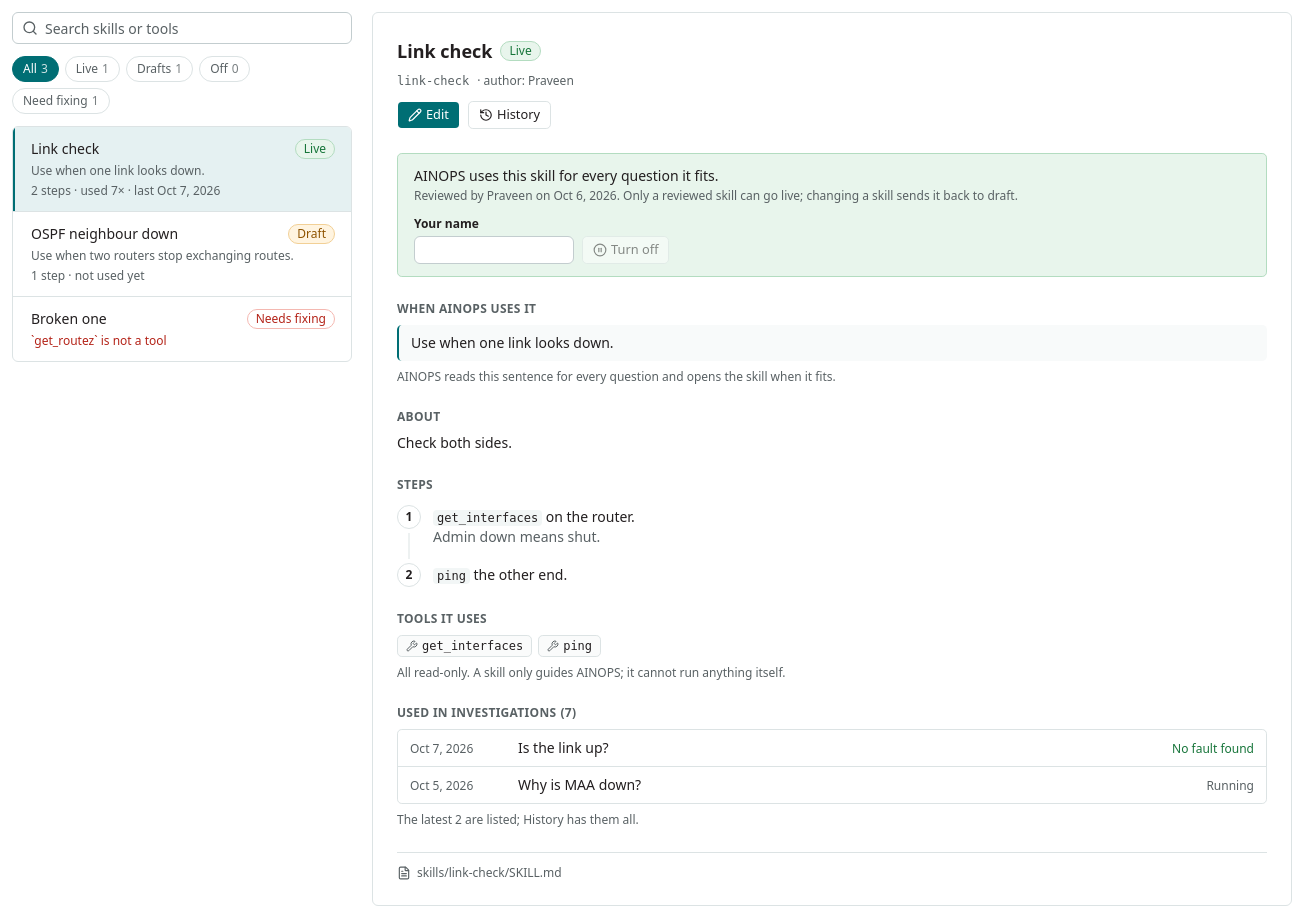
Test case: Skills page › filters by status and searches names, sentences and tools
Step 1. Click the button "Drafts1" → (160, 69), box [126, 56, 193, 82]
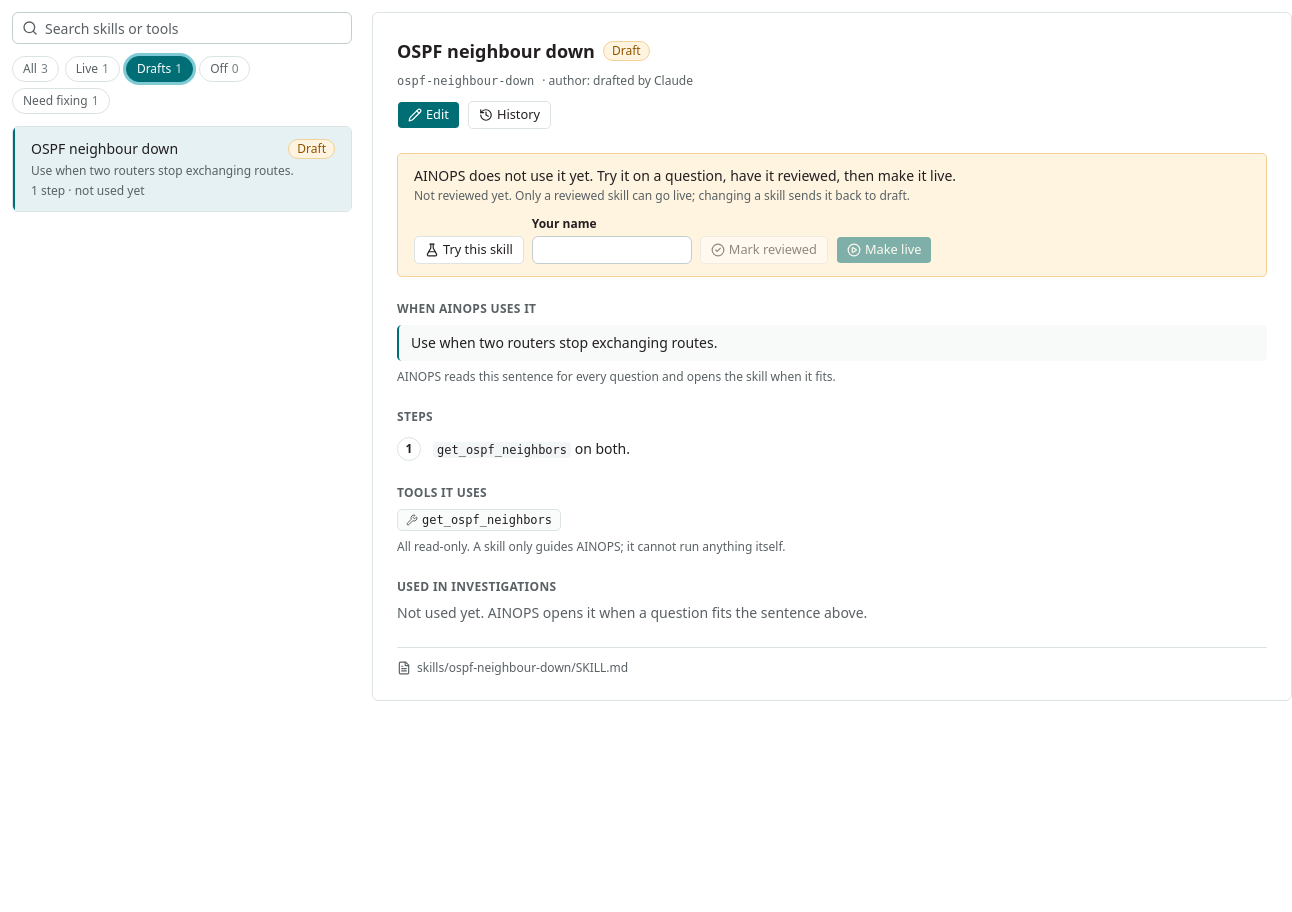
Step 2. Click the button "Need fixing1" → (61, 101), box [12, 88, 110, 114]
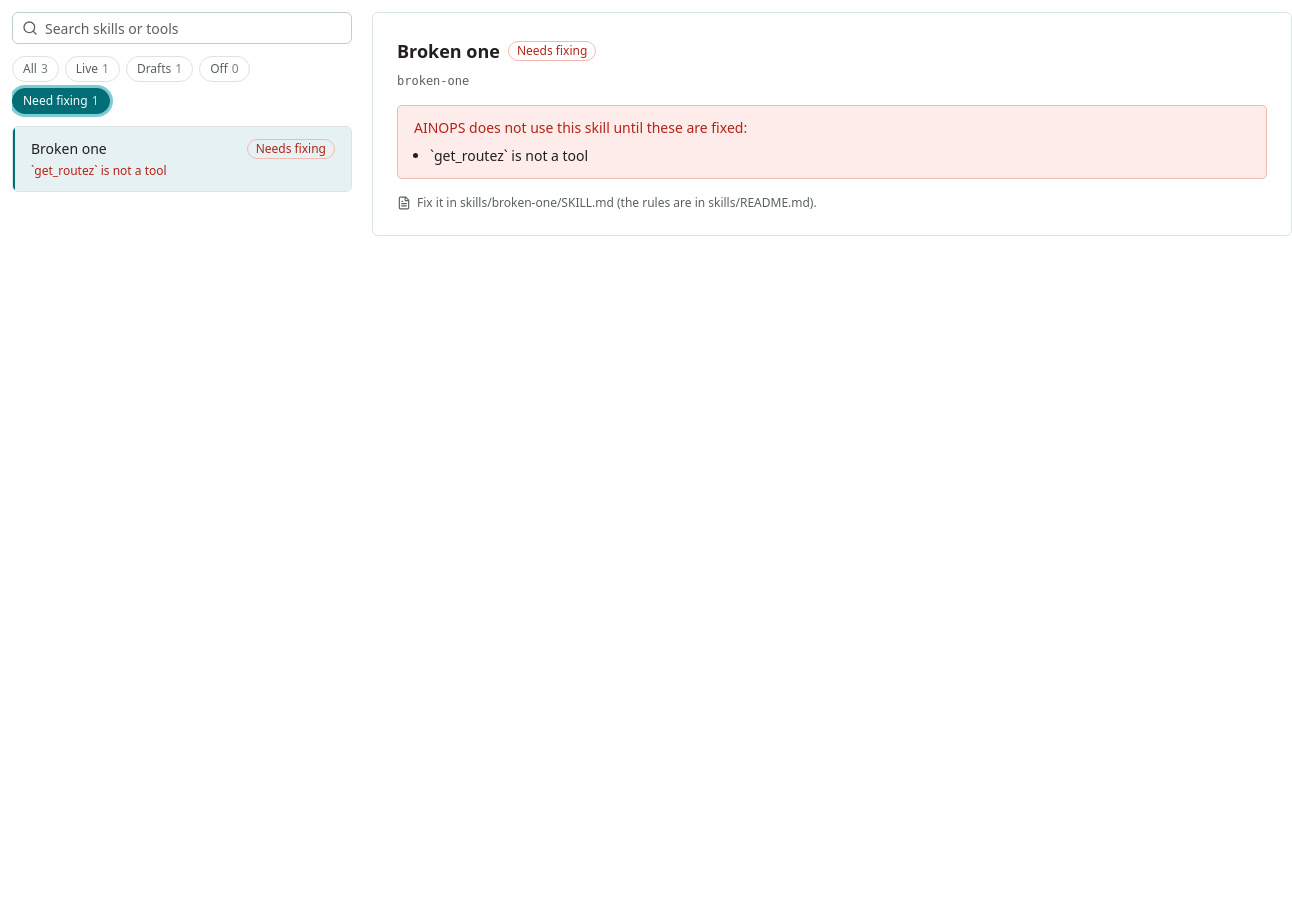
Step 3. Click the button "All3" → (35, 69), box [12, 56, 59, 82]
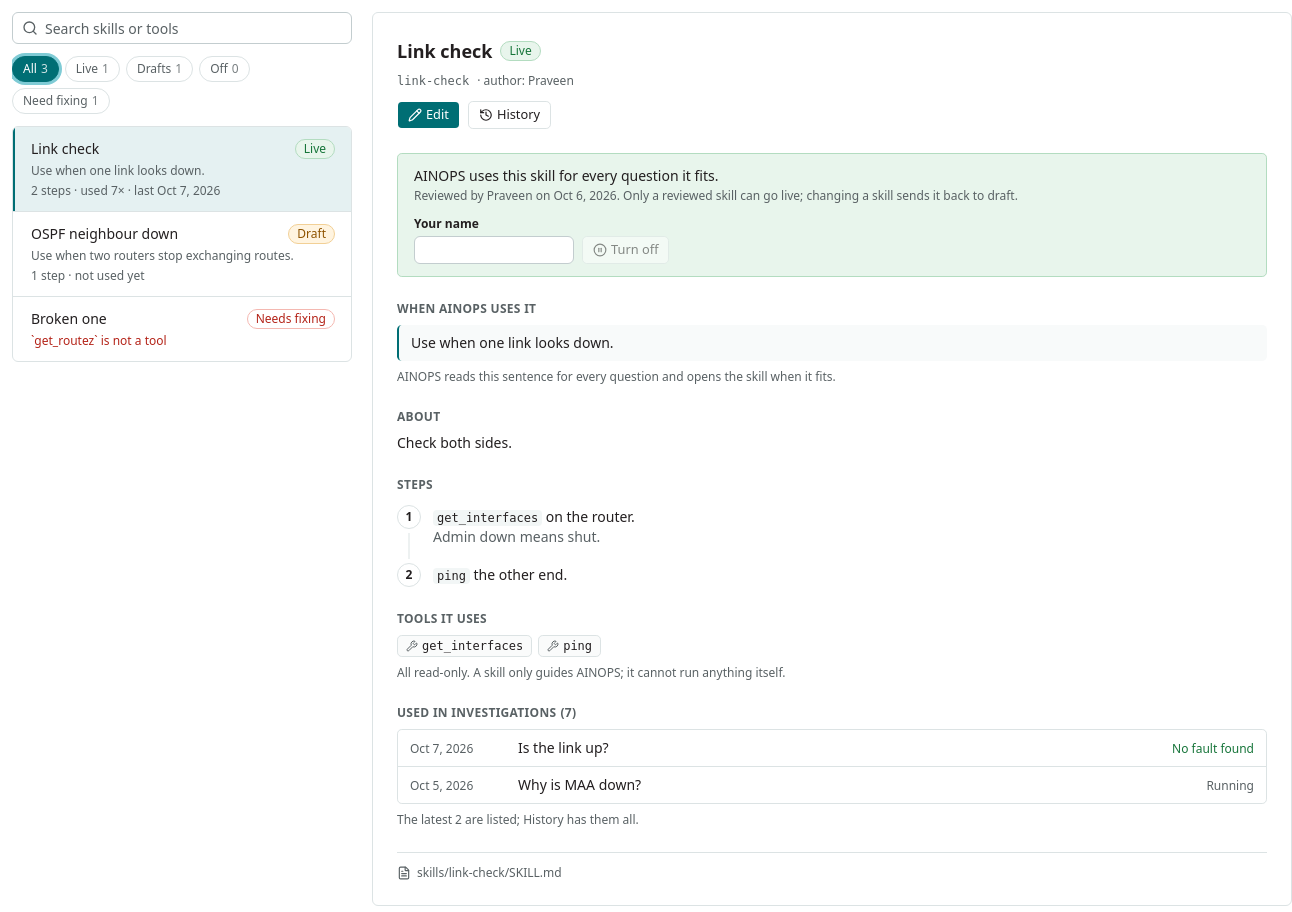
Step 4. Type "ping" into the search field labelled "Search skills" → (182, 28), box [12, 12, 352, 44]
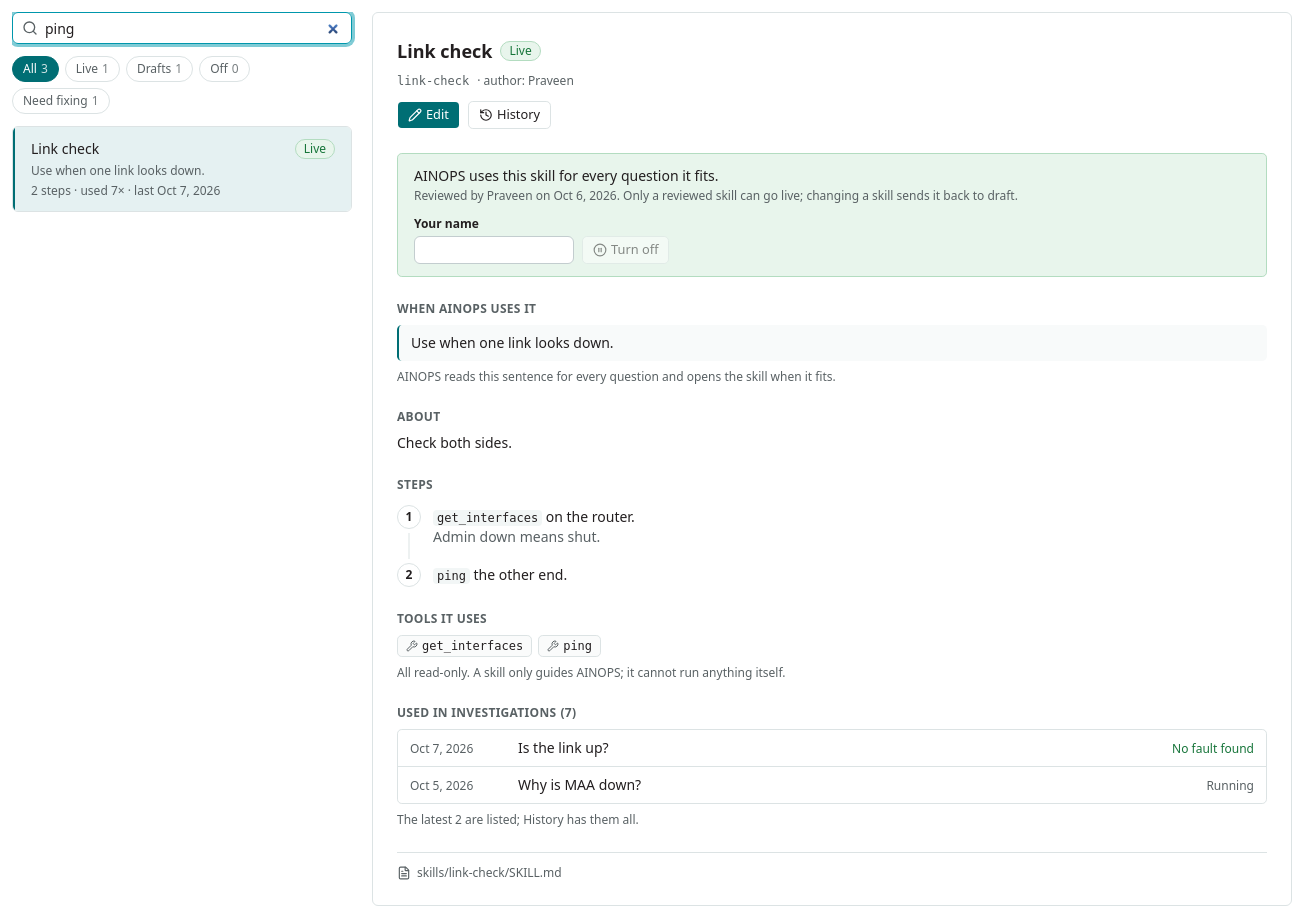
Step 5. Replace the text in the search field named "Search skills" with "zzz" → (182, 28), box [12, 12, 352, 44]
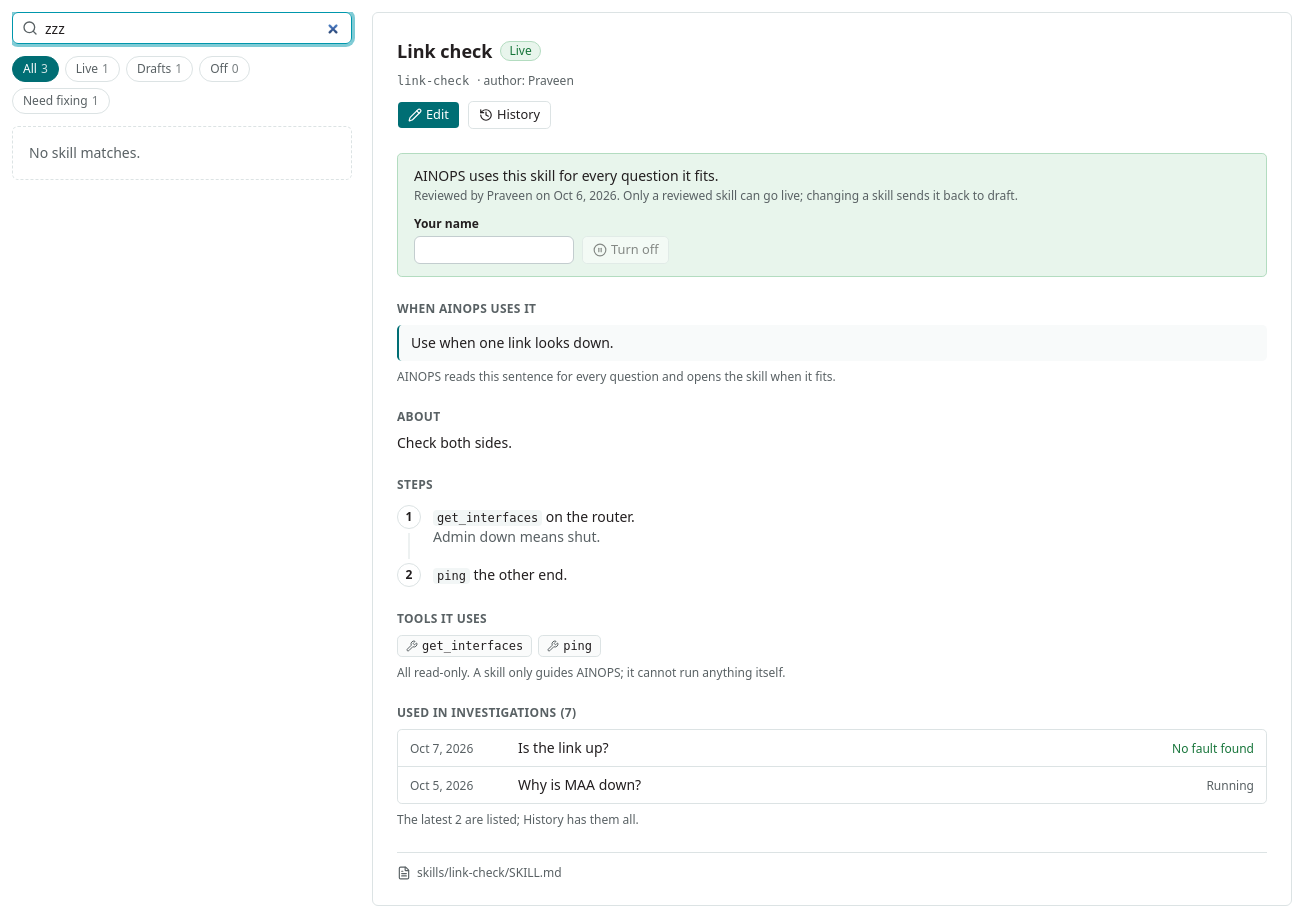
Expected: the text "No skill matches." is shown, [12, 126, 352, 180]
